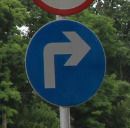right_turn: (25, 20, 105, 106)
